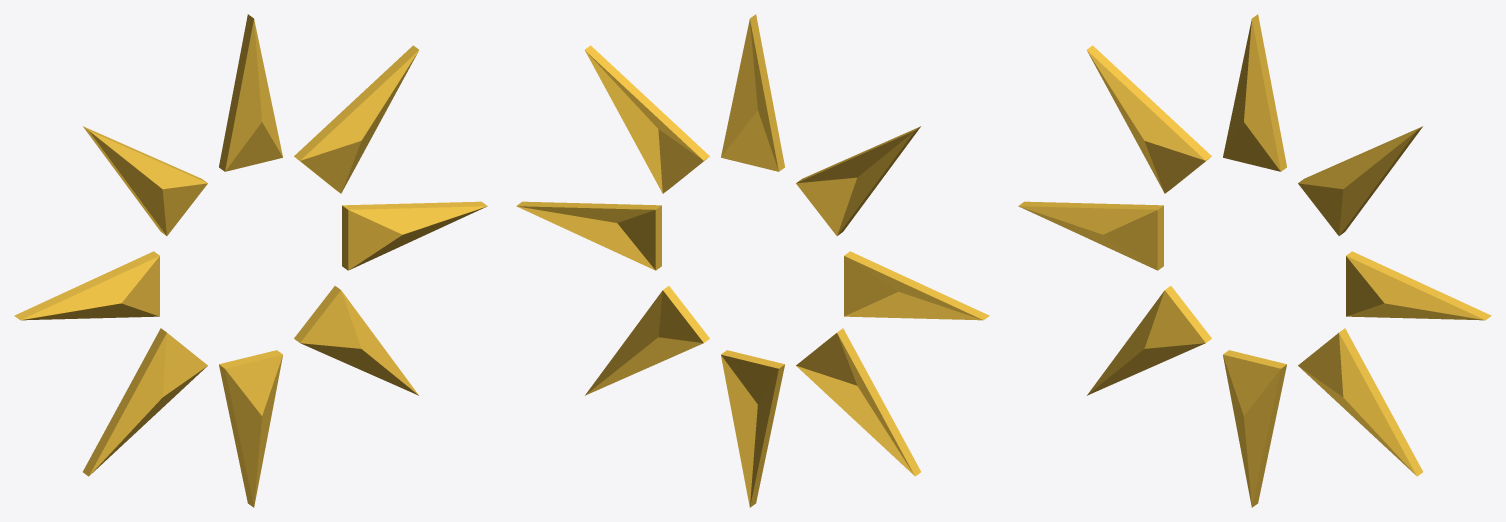
3 views of the same model, side by side, from view 1: azimuth 30°, elevation 25°; view 2: azimuth 150°, elevation 25°; view 3: azimuth 330°, elevation 25° (orthographic).
Visible parts, largest first — view 1: 八向尖角折纸光芒.001; view 2: 八向尖角折纸光芒.001; view 3: 八向尖角折纸光芒.001.
Boxes of the visible parts, x1,y1,x2,y2 form: 八向尖角折纸光芒.001: (14,14,487,507); 八向尖角折纸光芒.001: (516,14,989,507); 八向尖角折纸光芒.001: (1018,14,1491,507).
Size of the model in its own units: 1.52 by 1.52 by 0.08.
